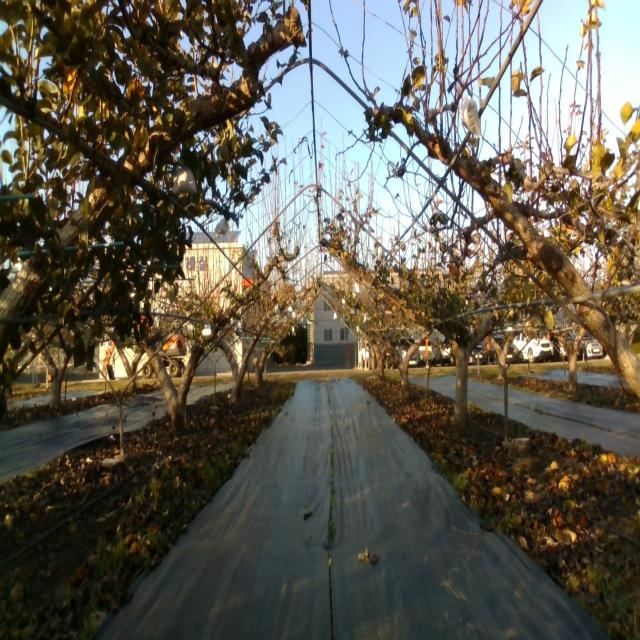pearbags: (459, 96, 482, 138), (173, 160, 196, 197)
